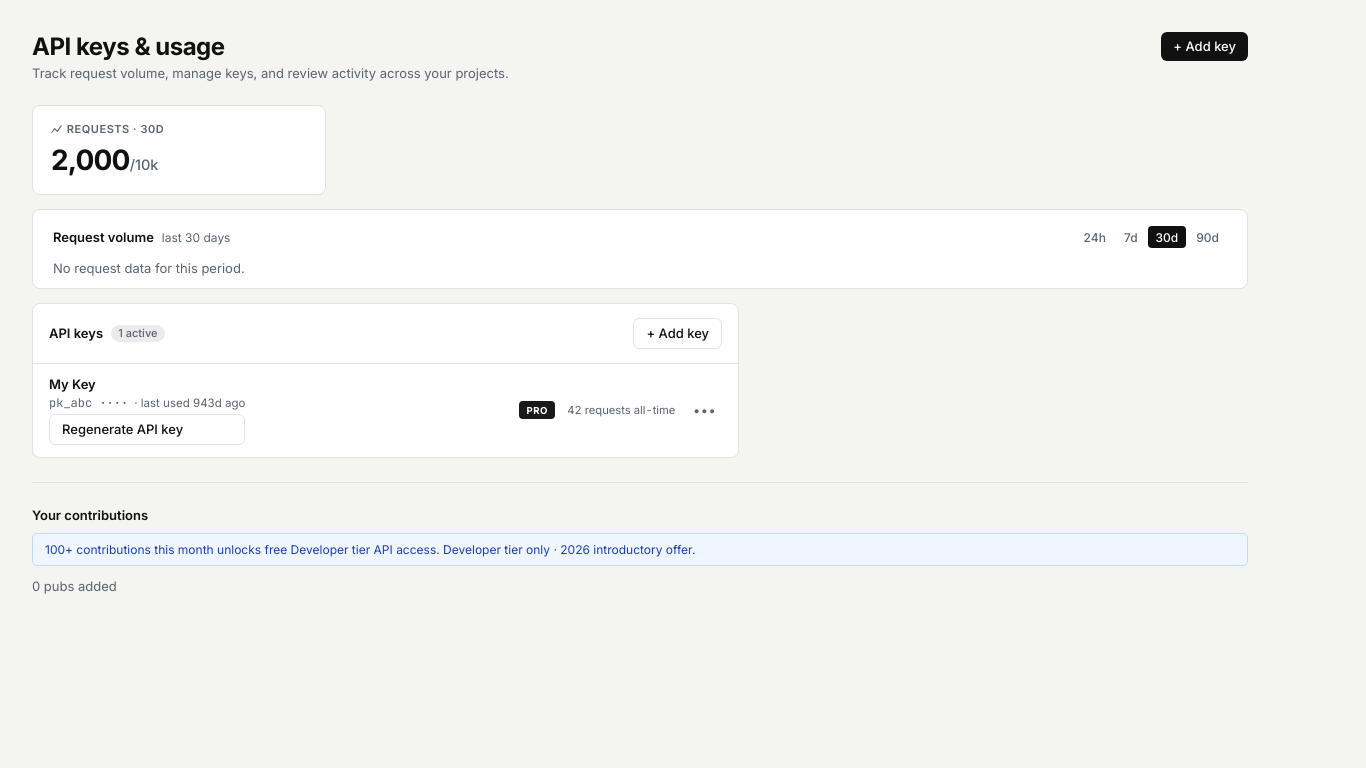
it: Dashboard › forgot API key › shows success message after forgot API key (no new key in response)
Expected: the text "My Key" is shown, [49, 376, 96, 392]
Click the button named "More options for My Key": (705, 411) [687, 401, 722, 422]
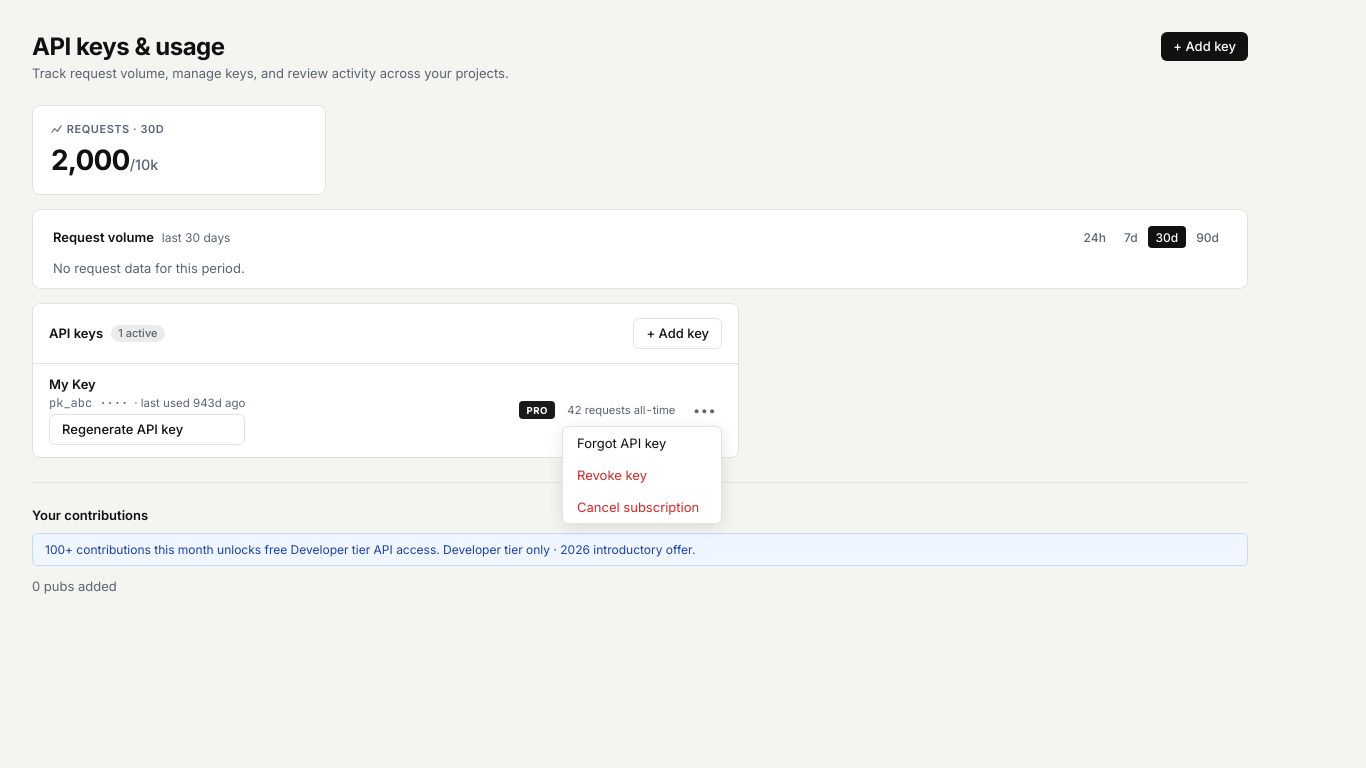
Click the button "Forgot API key": (642, 442) [563, 426, 721, 458]
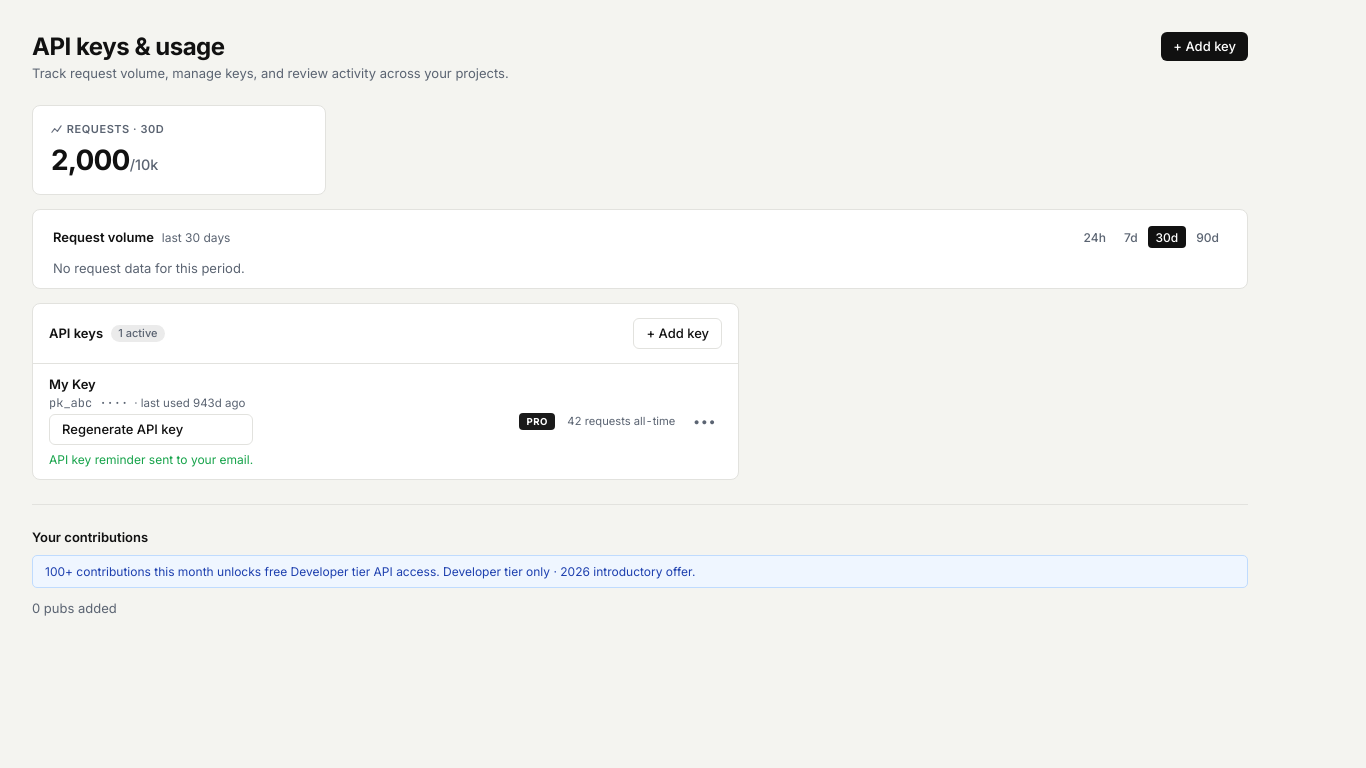
Now the text "API key reminder sent to your email." is shown, box [49, 452, 253, 467]
